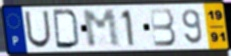1: (119, 8, 136, 47)
9: (181, 9, 204, 46)
B: (148, 7, 178, 48)
D: (52, 9, 82, 51)
M: (80, 8, 123, 49)
U: (23, 10, 53, 50)
